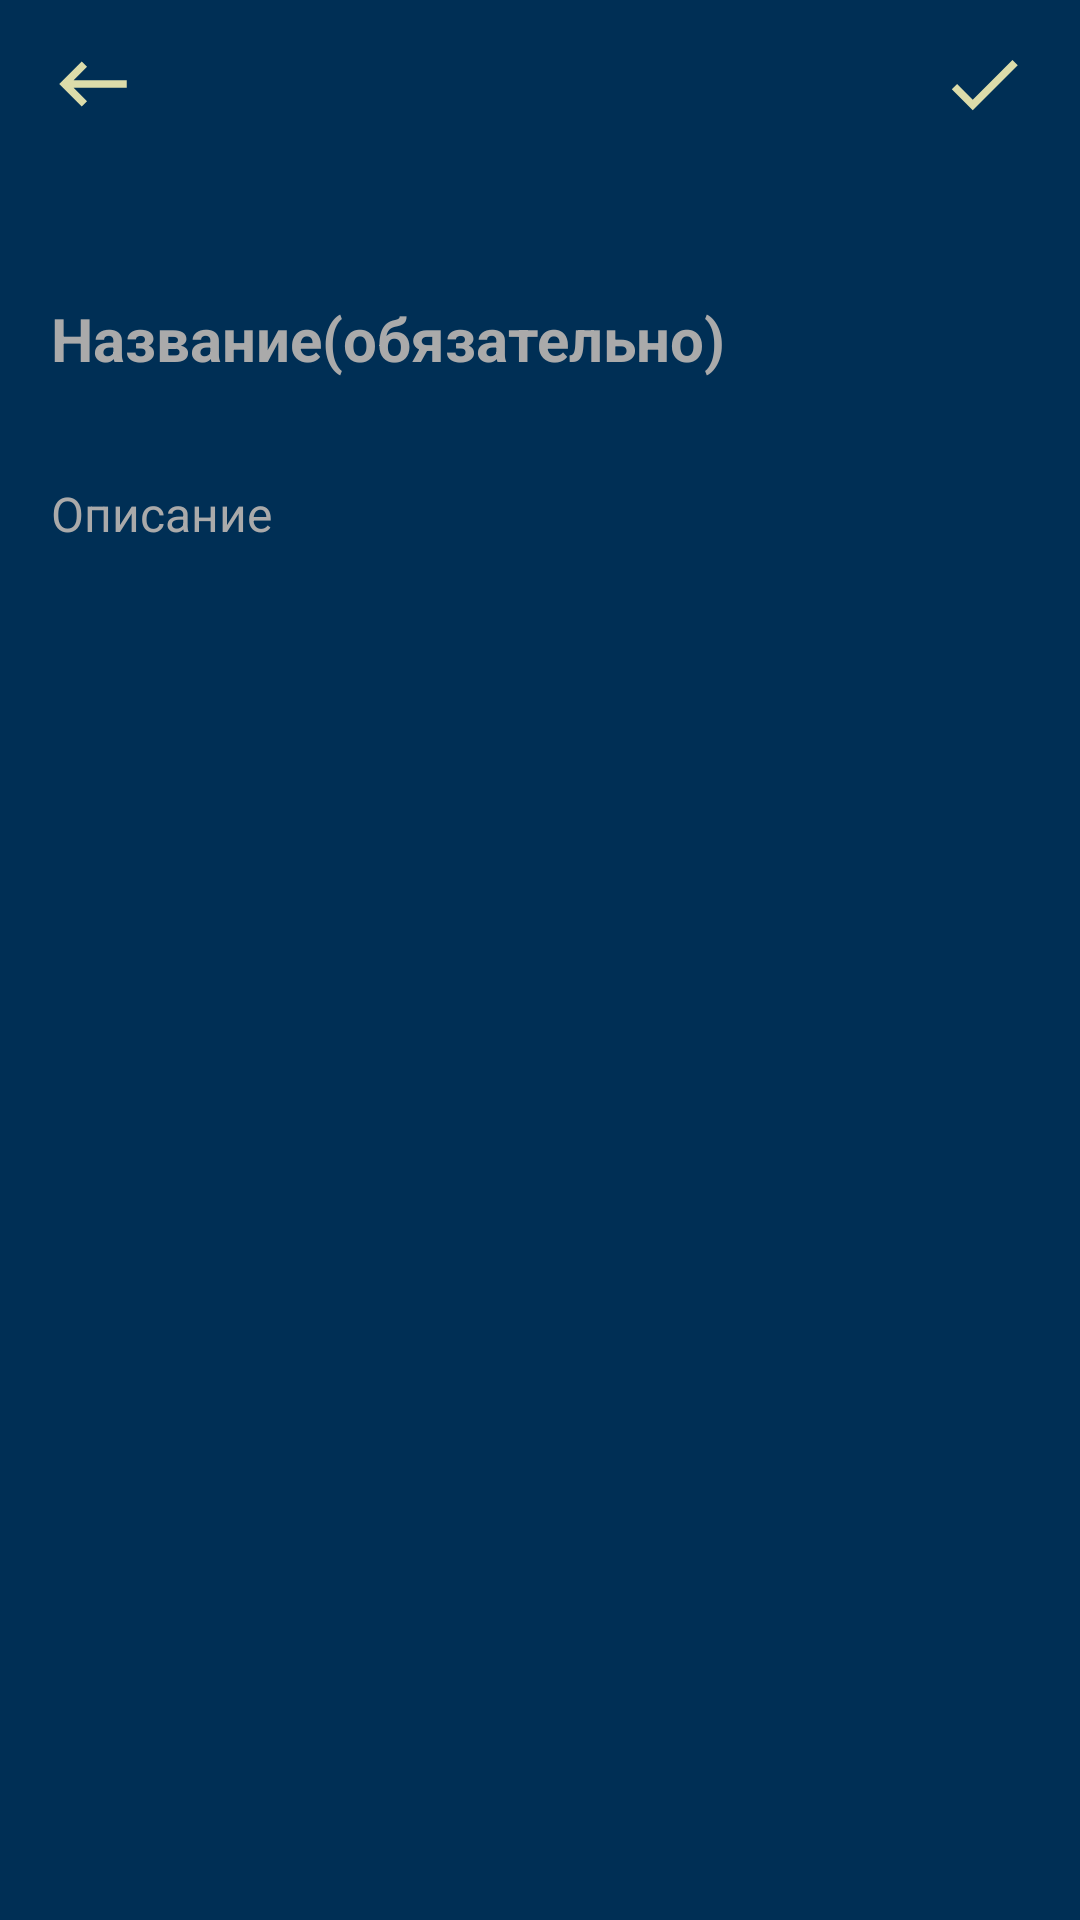

Point at icon controls on the screen. Image size 1080x1920, points as [x,y].
come back to home fragment: [93,84]
save: [985,85]
